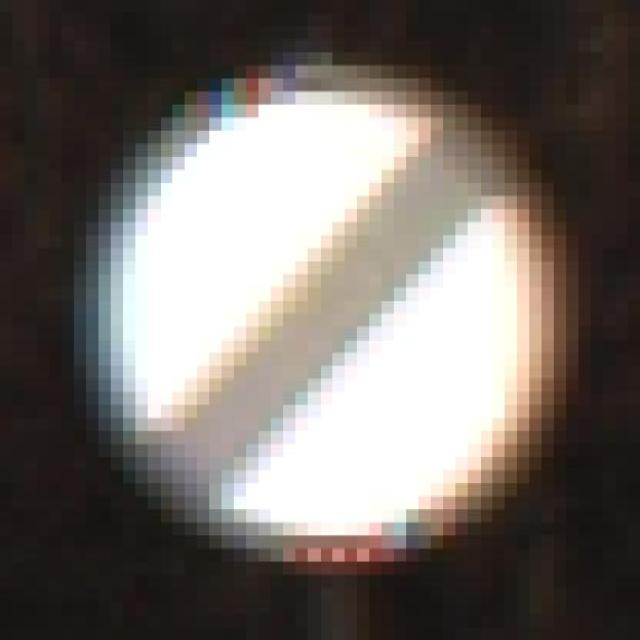End of all speed and passing limits: (49, 26, 603, 602)
